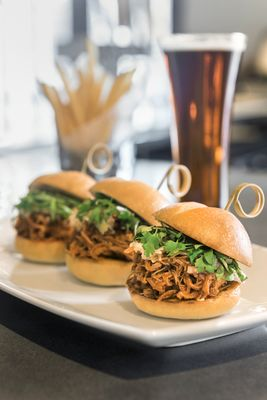pizza: (157, 32, 249, 204)
soup: (62, 176, 254, 321), (11, 171, 98, 263)
